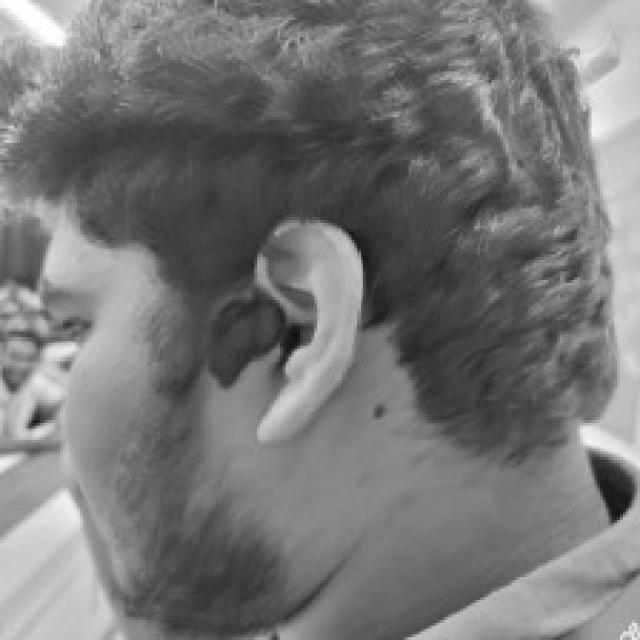ear: (251, 220, 360, 440)
